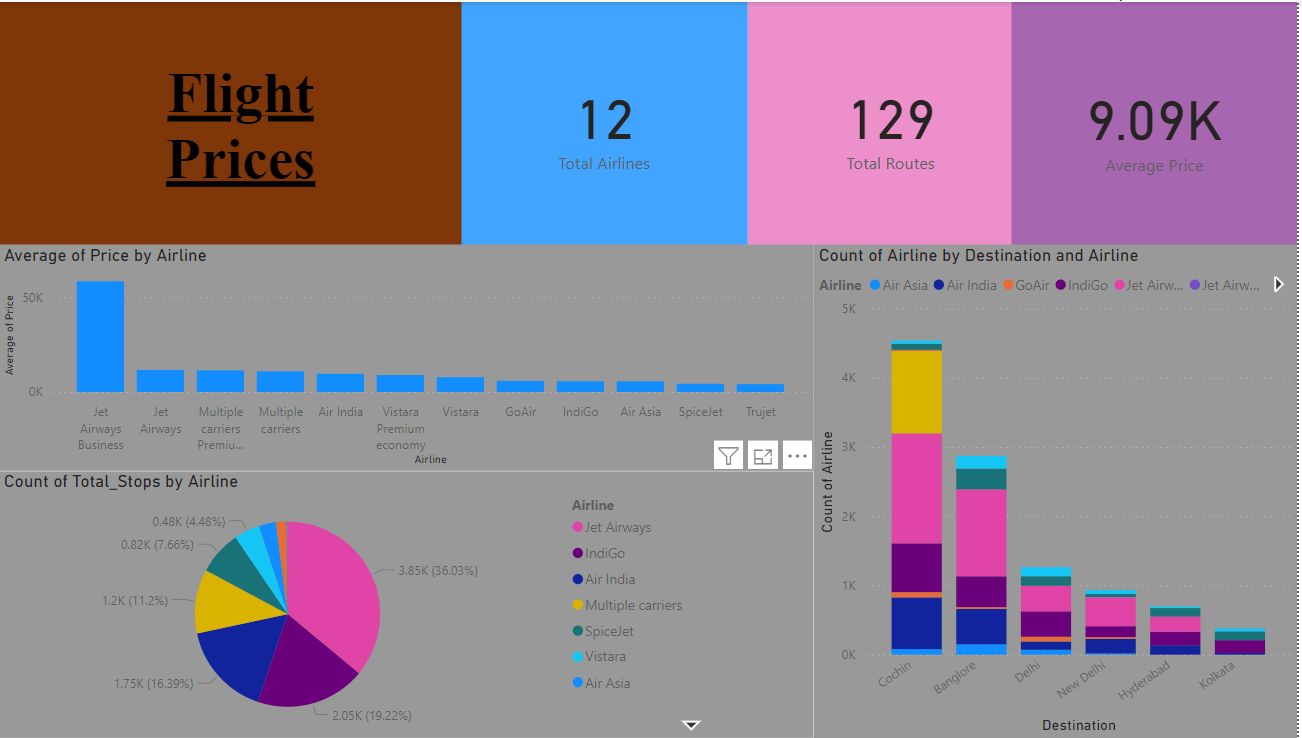

The dashboard page shown, as its layout file describes it:
{"tool":"powerbi","page":{"name":"Page 1","canvas":[1280,720],"ordinal":0},"visuals":[{"type":"textbox","box":[10.2,0,472.7,279.9],"z":0},{"type":"card","fields":{"Values":["Count(Sheet1.Airline)"]},"box":[462.5,0,279.9,237.2],"z":1},{"type":"card","fields":{"Values":["Count(Sheet1.Route)"]},"box":[742.4,0,279.9,237.2],"z":2},{"type":"card","fields":{"Values":["Avg(Sheet1.Price)"]},"box":[1000.1,0,279.9,240.6],"z":3},{"type":"clusteredColumnChart","fields":{"Category":["Sheet1.Airline"],"Y":["Avg(Sheet1.Price)"]},"box":[9.8,237.1,797,221.3],"z":4},{"type":"columnChart","fields":{"Category":["Sheet1.Destination"],"Y":["CountNonNull(Sheet1.Airline)"],"Series":["Sheet1.Airline"]},"box":[806.8,237.1,473.1,482.9],"z":5},{"type":"pieChart","fields":{"Category":["Sheet1.Airline"],"Y":["CountNonNull(Sheet1.Total_Stops)"]},"box":[9.8,458.4,797,261.6],"z":6}]}

Visuals, with their boxes in screenshot pixels (x1, y1, x2, y2), scaled from the page's 1280x720 canvas onto the 1302x738 screenshot:
textbox: bbox(10, 0, 491, 287)
card - Count(Sheet1.Airline): bbox(470, 0, 755, 243)
card - Count(Sheet1.Route): bbox(755, 0, 1040, 243)
card - Avg(Sheet1.Price): bbox(1017, 0, 1301, 247)
clusteredColumnChart - Sheet1.Airline x Avg(Sheet1.Price): bbox(10, 243, 821, 470)
columnChart - Sheet1.Destination x CountNonNull(Sheet1.Airline): bbox(821, 243, 1301, 737)
pieChart - Sheet1.Airline x CountNonNull(Sheet1.Total_Stops): bbox(10, 470, 821, 737)
